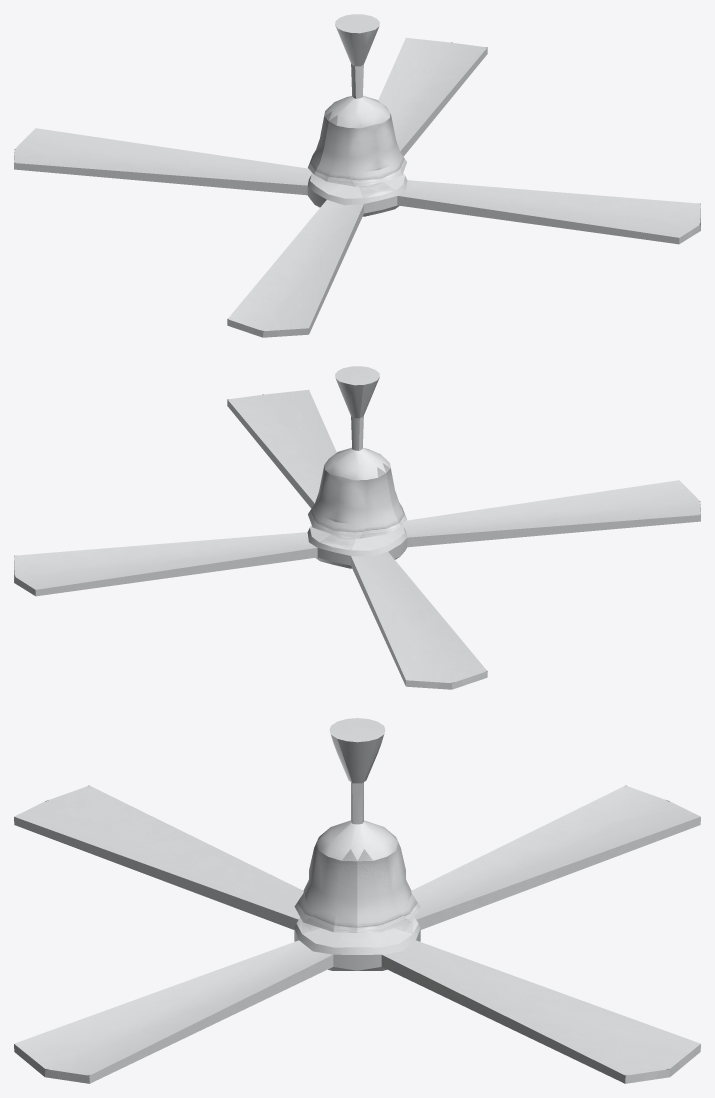
File: ventilador.fbx
The picture shows the model from 3 angles, top to bottom: view 1: azimuth 30°, elevation 25°; view 2: azimuth 150°, elevation 25°; view 3: azimuth 270°, elevation 25°; orthographic projection. The views are drawn at different scales.
Visible parts, largest first — view 1: Cylinder; view 2: Cylinder; view 3: Cylinder.
Part boxes in pixels (box(x1,y1,x2,y2)): Cylinder: box(14, 14, 700, 337); Cylinder: box(14, 366, 700, 689); Cylinder: box(14, 718, 700, 1083).
Bounding box in the file's own units: 325 × 121 × 325.
Materials: 1 (1 with a texture image).
